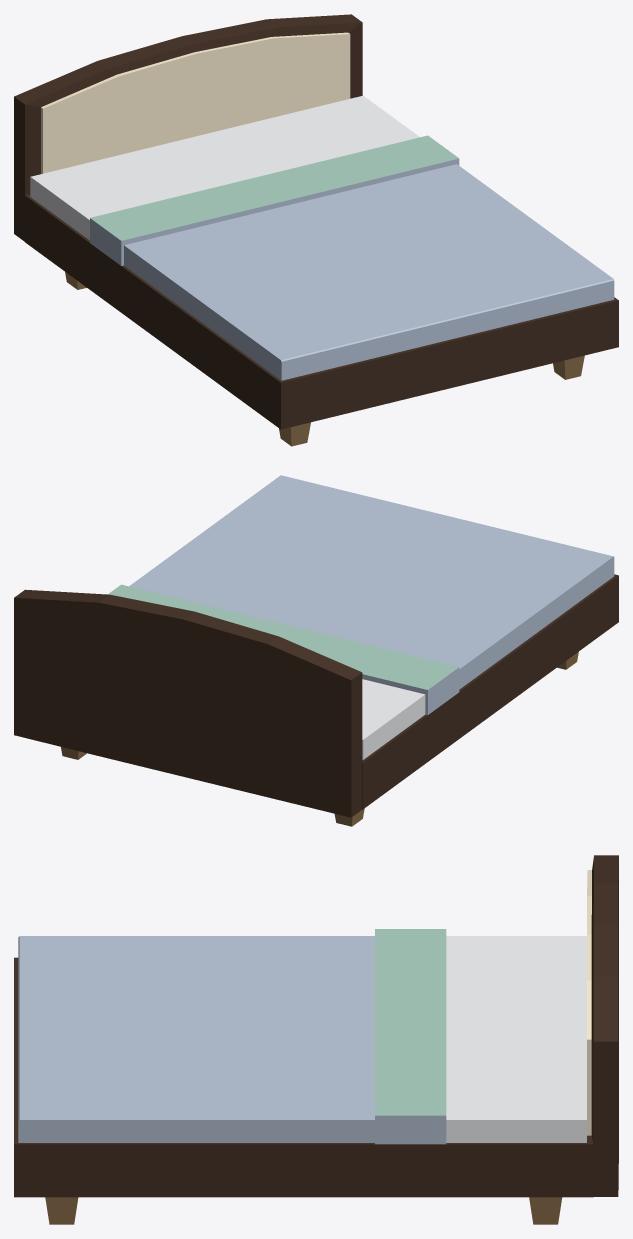
The model's file is Accesories_Bed_Large.002.glb.
3 renders of one model, top to bottom at view 1: azimuth 30°, elevation 25°; view 2: azimuth 150°, elevation 25°; view 3: azimuth 270°, elevation 25°, orthographic. The views are drawn at different scales.
Parts seen in each view (by area): view 1: Accesories_Bed_Large.002; view 2: Accesories_Bed_Large.002; view 3: Accesories_Bed_Large.002.
Part boxes in pixels (left/top/right/bottom): Accesories_Bed_Large.002: left=14, top=14, right=618, bottom=446; Accesories_Bed_Large.002: left=14, top=475, right=618, bottom=826; Accesories_Bed_Large.002: left=14, top=855, right=618, bottom=1224.
Bounding box in the file's own units: 1.6 × 0.8708 × 2.2.
1 material, 1 textured.
